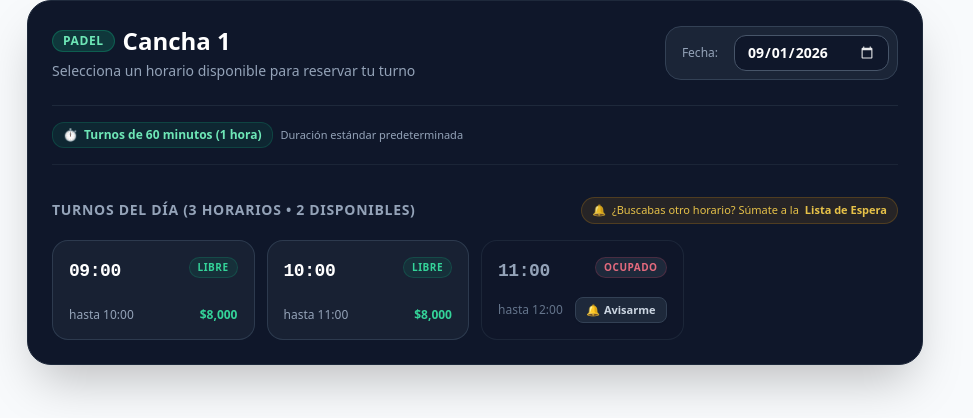
Test: Componente Reactivo GrillaHoraria › muestra alerta Toast en caso de error 409 Conflict (doble reserva)
Click the button with aria-label "Turno 10:00 a 11:00 Disponible" at (368, 290), box [266,240,469,340]
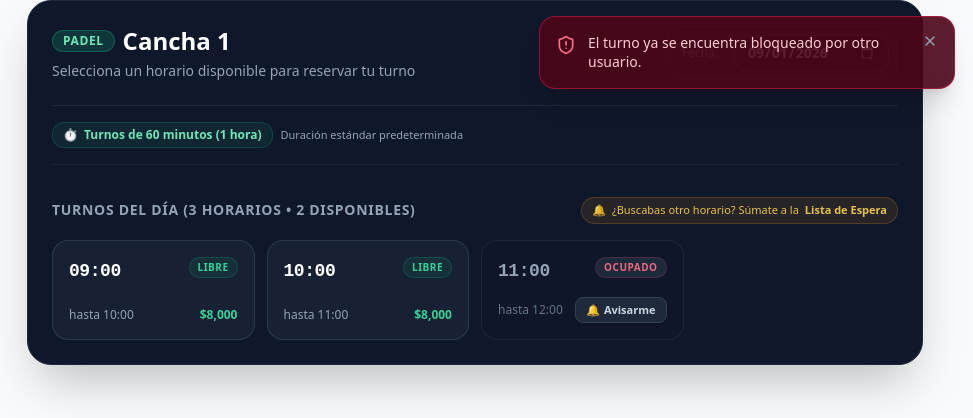
Expected: the message "El turno ya se encuentra bloqueado por otro usuario." is shown, [539,16,955,88]
Expected: the message reads "El turno ya se encuentra bloqueado por otro usuario.", [588,33,879,71]
